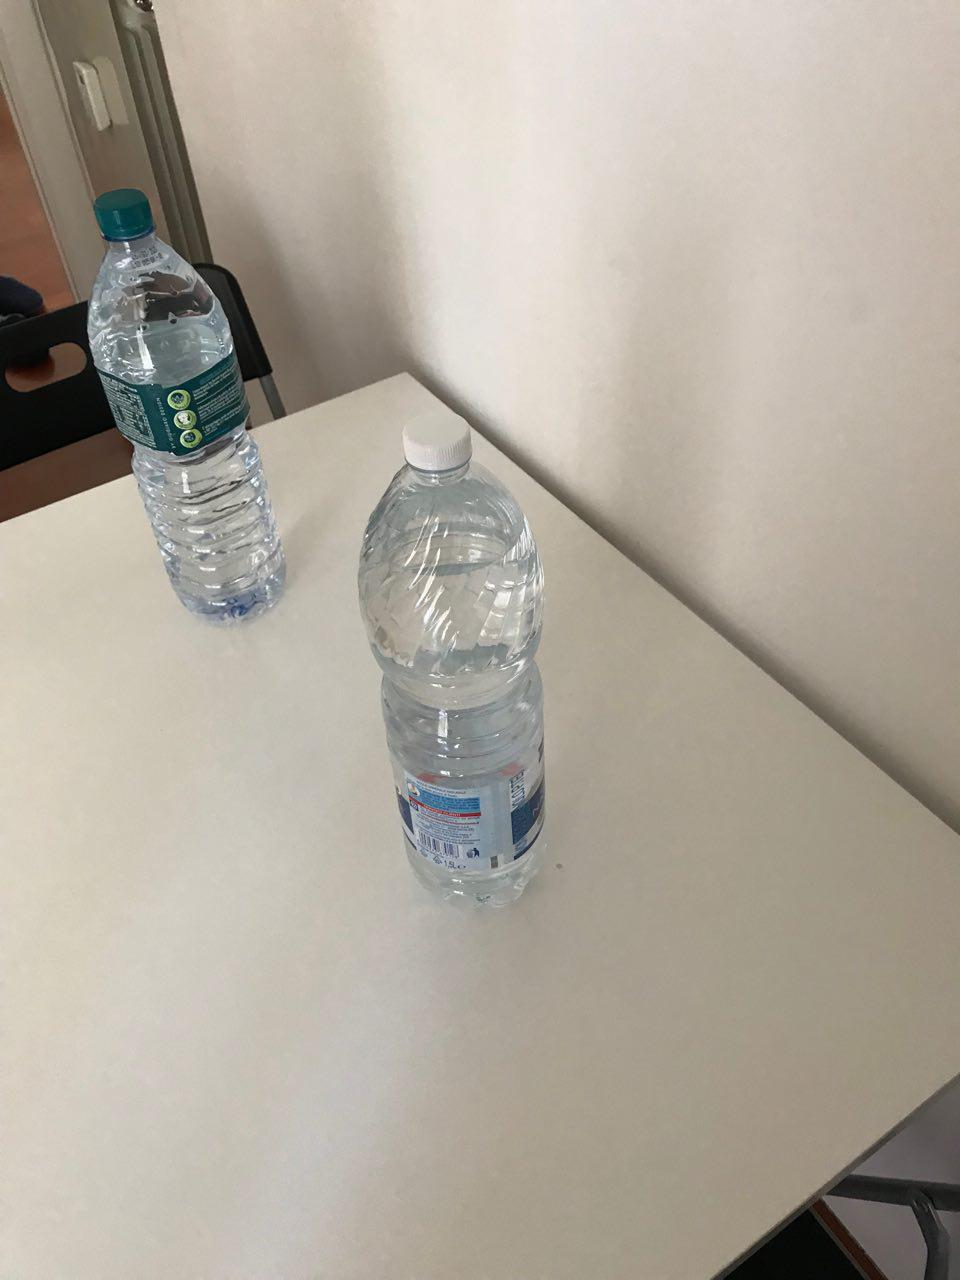san_bernardo: (85, 188, 288, 629)
